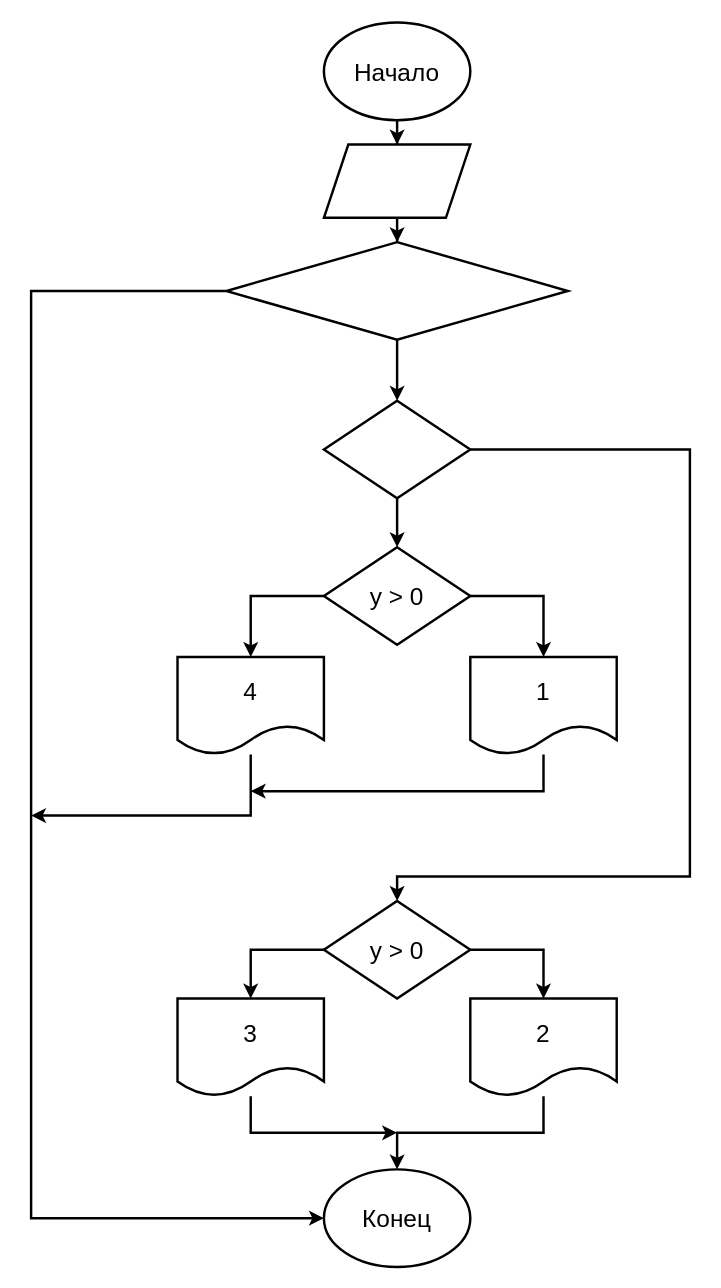
This 721x1288 diagram has some shape labels left out. The shapes that lost their labels are listed below. From the top down, each one's centre as x and y in pixels, then its label:
At [396,180]: "x, y".
At [396,290]: "x == 0 || y == 0".
At [396,449]: "x > 0".
